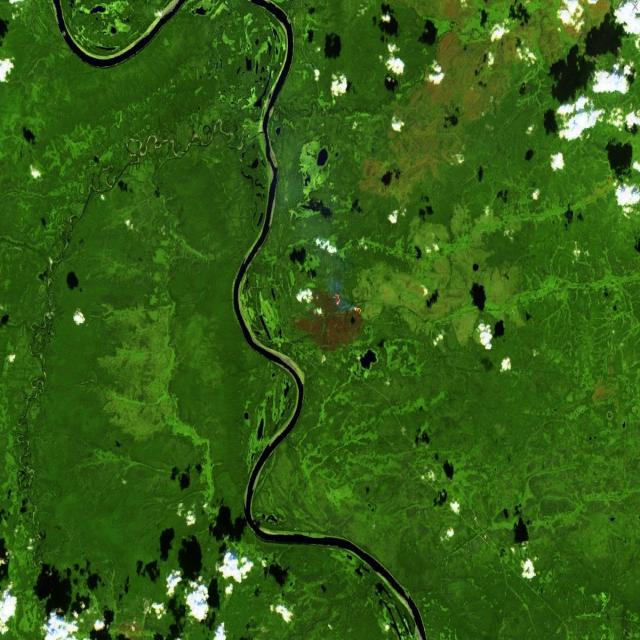fire: (329, 290, 365, 322)
